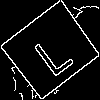L: (26, 25, 76, 78)
